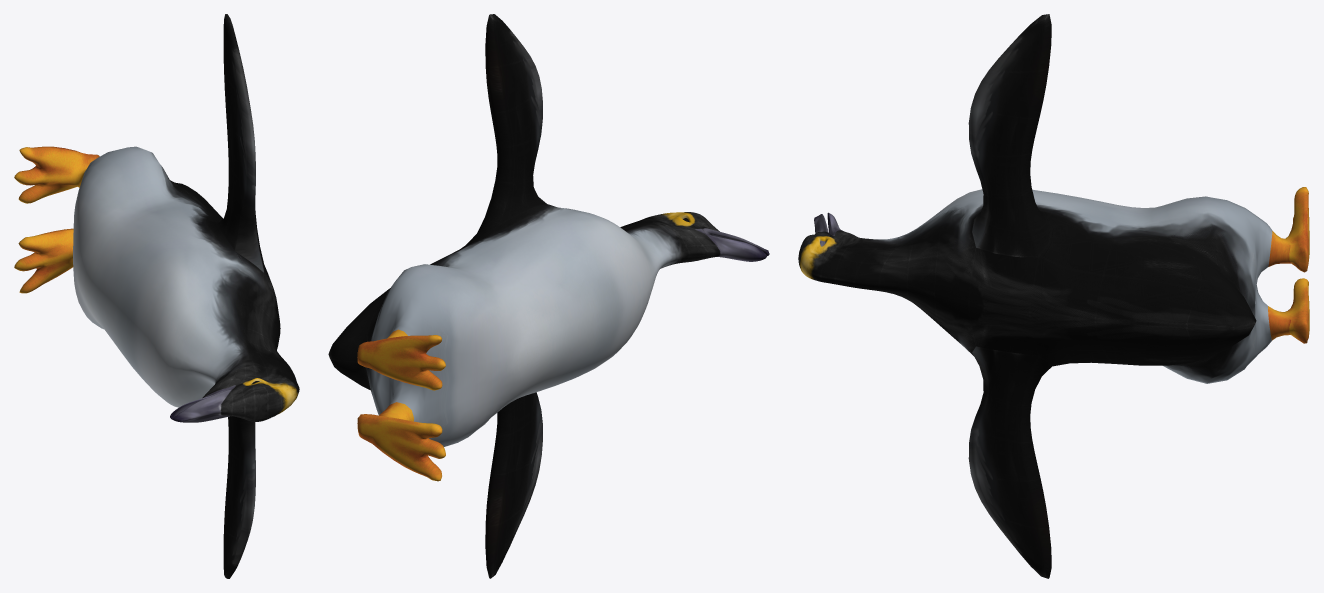
Rendered from penguin.fbx.
3 renders of one model, left to right at view 1: azimuth 30°, elevation 25°; view 2: azimuth 150°, elevation 25°; view 3: azimuth 270°, elevation 25°, orthographic.
Parts seen in each view (by area): view 1: Mesh; view 2: Mesh; view 3: Mesh.
Boxes of the visible parts, x1=… form: Mesh: x1=14, y1=14, x2=299, y2=578; Mesh: x1=328, y1=14, x2=769, y2=578; Mesh: x1=798, y1=14, x2=1309, y2=578.
Bounding box in the file's own units: 2.33 × 5.38 × 4.42.
1 material, 1 textured.
